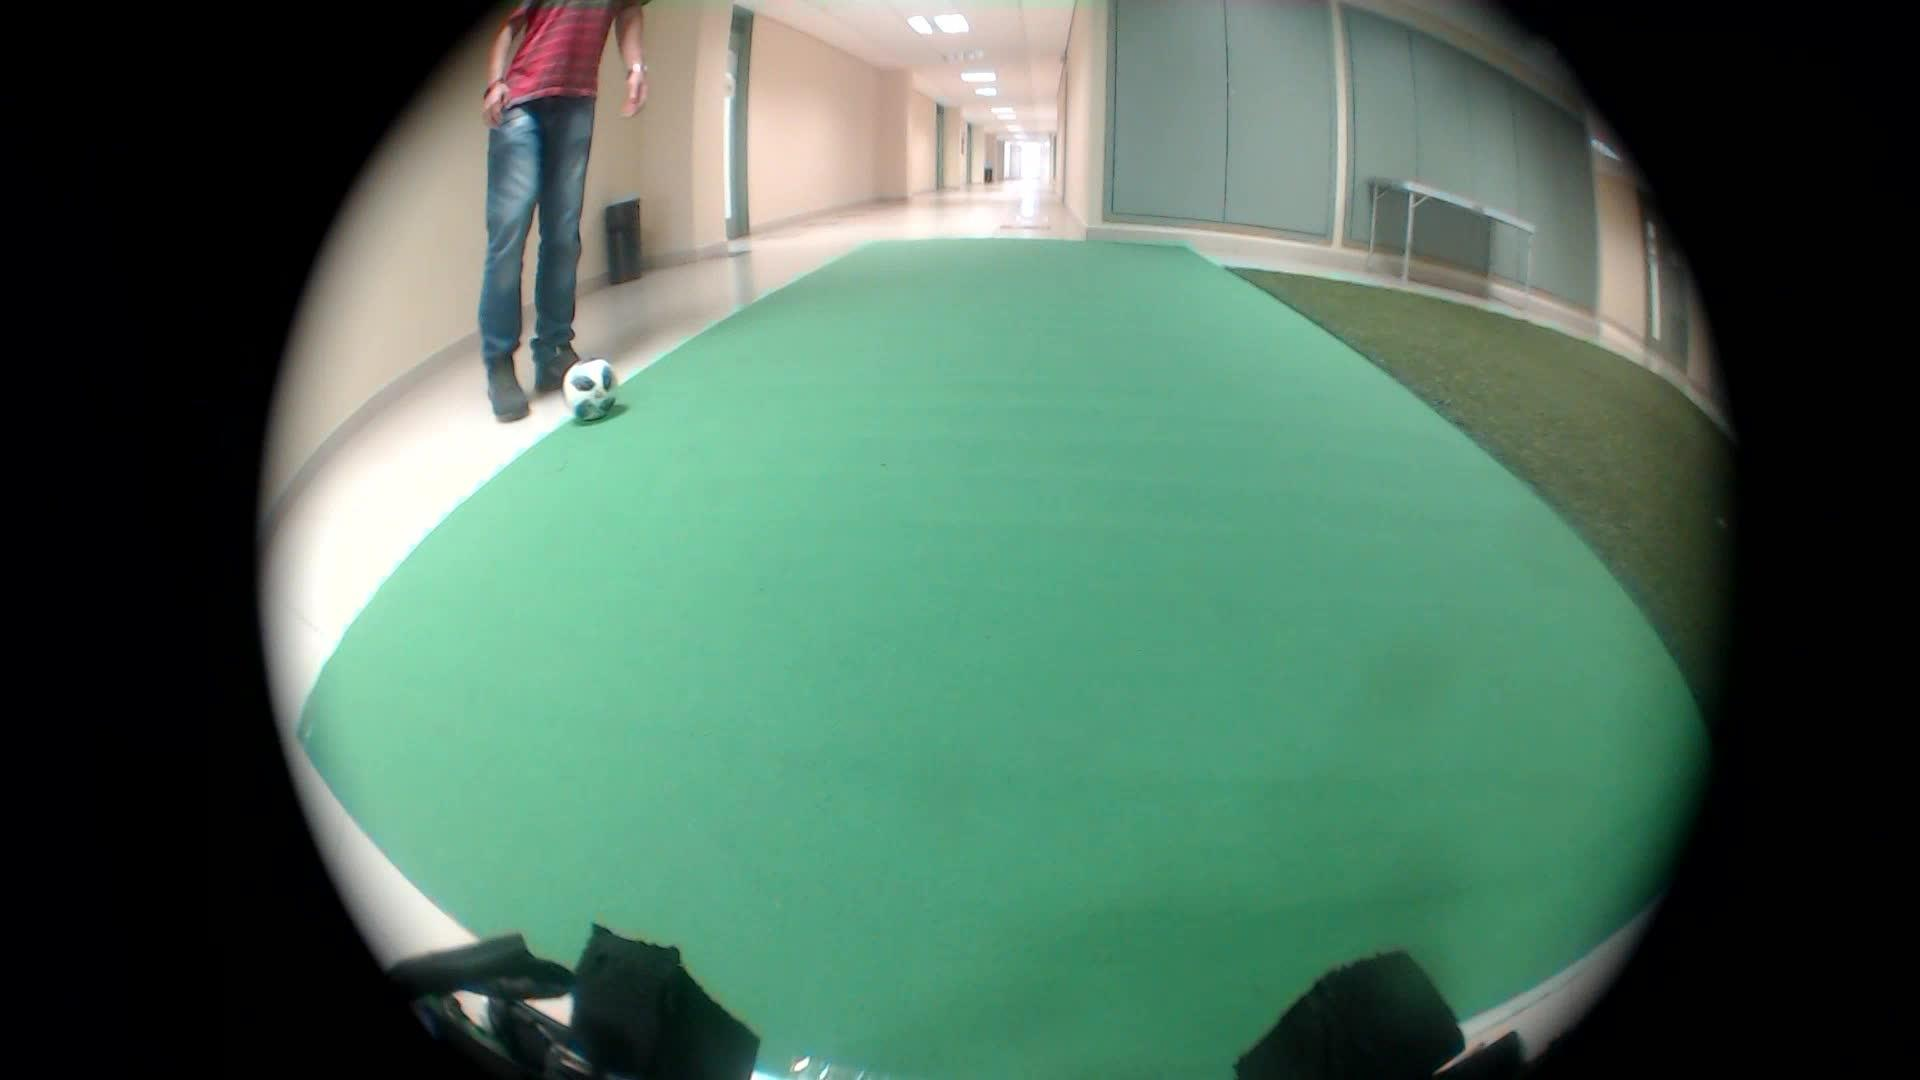ball: (562, 353, 641, 418)
